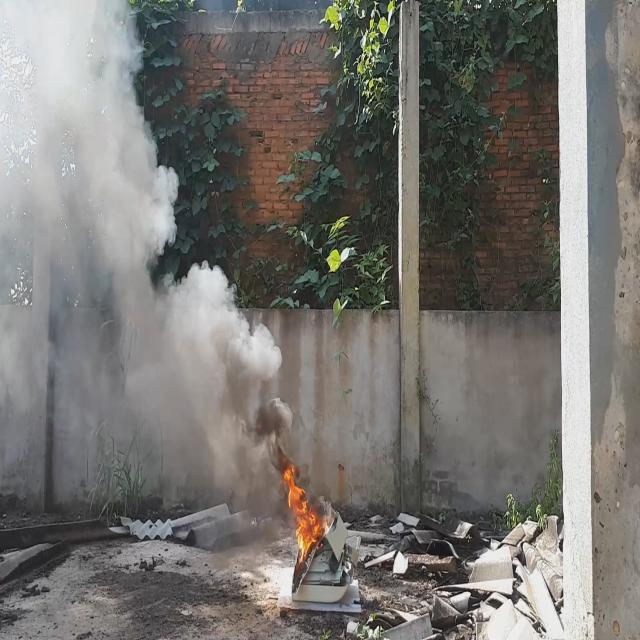Fire: (276, 447, 328, 570)
Smoke: (0, 0, 299, 515)
